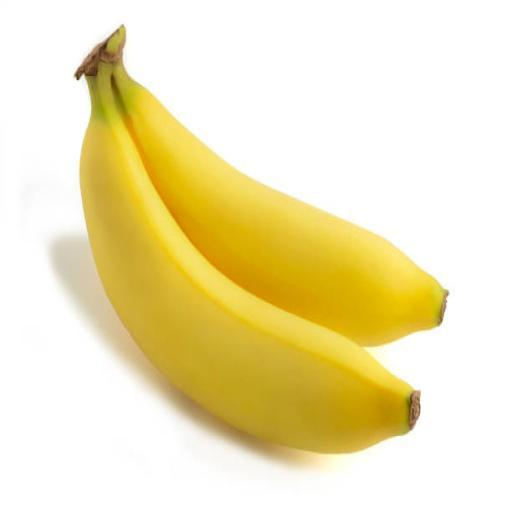banana: (78, 98, 419, 451), (113, 68, 447, 347)
